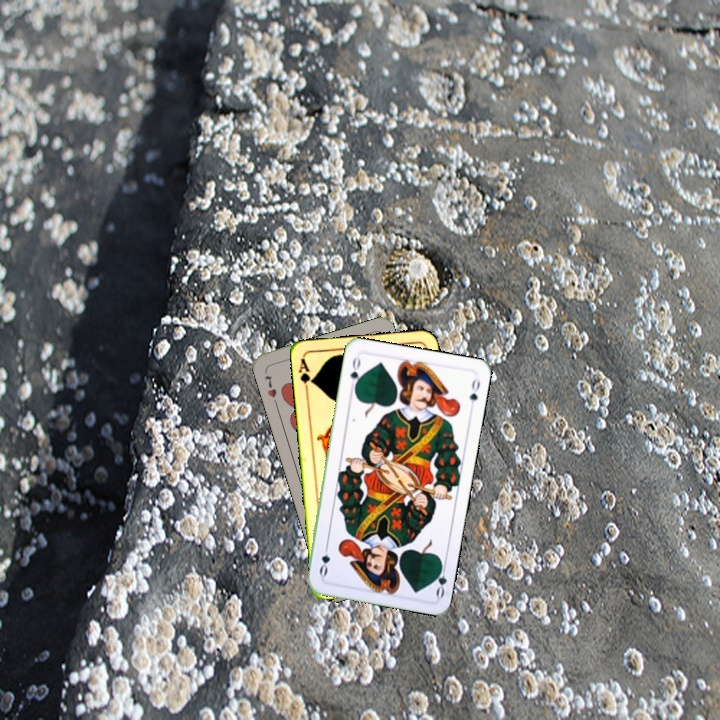GA: (295, 355, 316, 396)
GO: (430, 559, 449, 600), (346, 353, 363, 393)
H7: (260, 371, 280, 407)
